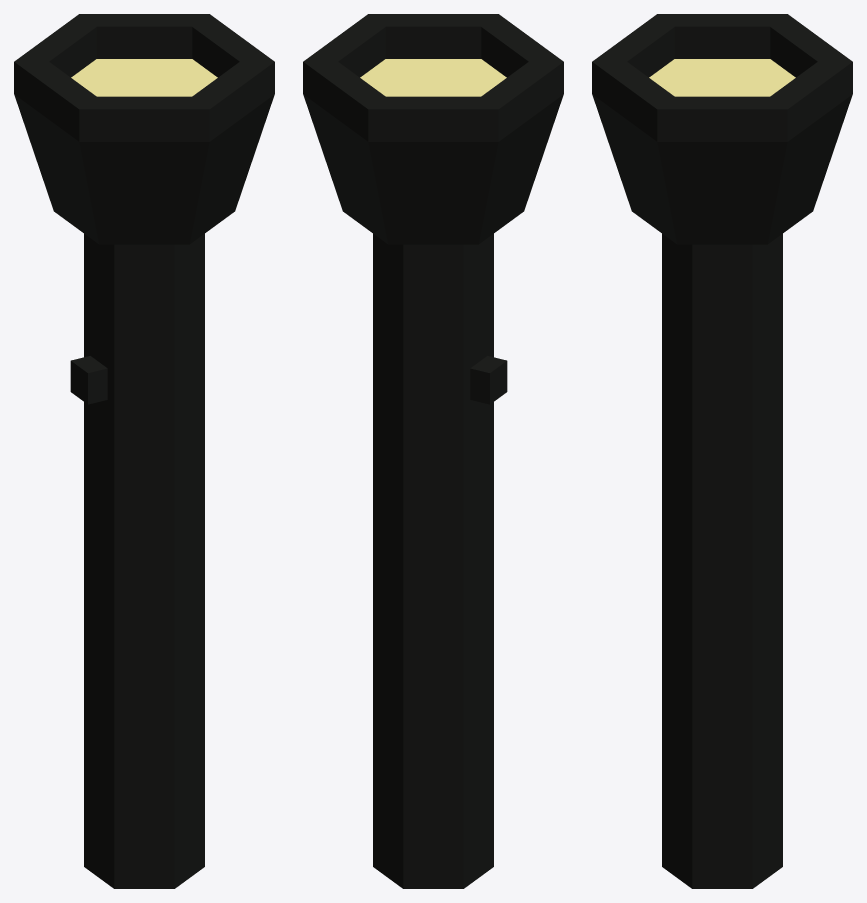
File: Flashlight.fbx
3 views of the same model, side by side, from view 1: azimuth 30°, elevation 25°; view 2: azimuth 150°, elevation 25°; view 3: azimuth 270°, elevation 25° (orthographic).
Parts seen in each view (by area): view 1: Flashlight; view 2: Flashlight; view 3: Flashlight.
Part boxes in pixels (<box>): Flashlight: <box>14,14,274,888</box>; Flashlight: <box>303,14,563,888</box>; Flashlight: <box>592,14,852,888</box>.
Size of the model in its own units: 9.16 by 36.04 by 10.58.
